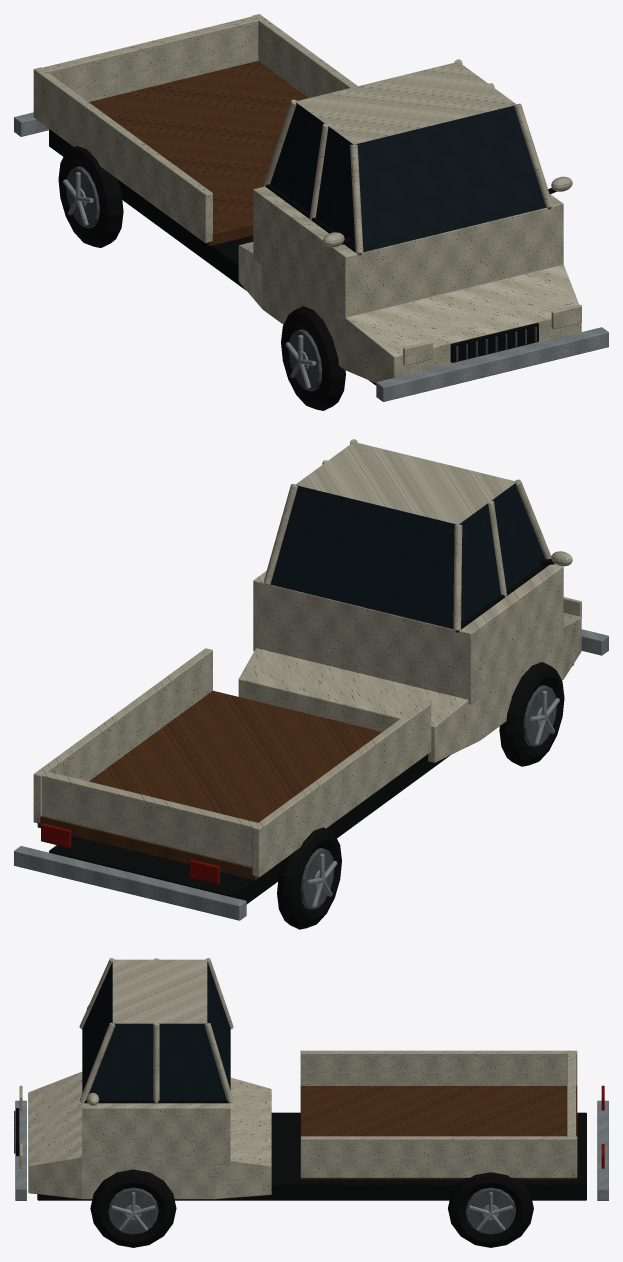
File: PROP-DC867A434090_lod0.glb
3 views of the same model, one above another, from view 1: azimuth 30°, elevation 25°; view 2: azimuth 150°, elevation 25°; view 3: azimuth 270°, elevation 25° (orthographic). The views are drawn at different scales.
Parts seen in each view (by area): view 1: sloped_cabin_glazing.002, lower_cab_shell, bed_deck, shaped_body_panels.004, bed_sides, roof_panel.002, tailgate, tire.004, bumper.004, window_pillars.002, chassis.004, rim.004 (+4 smaller); view 2: sloped_cabin_glazing.002, bed_deck, lower_cab_shell, bed_sides, shaped_body_panels.004, tailgate, roof_panel.002, tire.004, chassis.004, bumper.004, window_pillars.002, rim.004 (+2 smaller); view 3: bed_sides, shaped_body_panels.004, bed_deck, sloped_cabin_glazing.002, lower_cab_shell, chassis.004, tire.004, roof_panel.002, rim.004, window_pillars.002, bumper.004, rim_spokes.004 (+2 smaller).
Boxes of the visible parts, box(x1,y1,x2,y2) form: sloped_cabin_glazing.002: box(270, 102, 546, 252); lower_cab_shell: box(253, 186, 563, 325); bed_deck: box(39, 61, 308, 246); shaped_body_panels.004: box(238, 242, 581, 382); bed_sides: box(33, 14, 357, 242); roof_panel.002: box(295, 61, 516, 144); tailgate: box(41, 16, 258, 101); tire.004: box(58, 146, 345, 410); bumper.004: box(14, 112, 608, 401); window_pillars.002: box(263, 59, 552, 253); chassis.004: box(49, 129, 376, 385); rim.004: box(66, 166, 322, 390); sloped_cabin_glazing.002: box(270, 482, 545, 628); bed_deck: box(37, 690, 426, 880); lower_cab_shell: box(253, 564, 563, 704); bed_sides: box(33, 648, 431, 877); shaped_body_panels.004: box(238, 613, 581, 762); tailgate: box(39, 771, 257, 866); roof_panel.002: box(295, 442, 516, 524); tire.004: box(277, 662, 564, 929); chassis.004: box(49, 664, 573, 904); bumper.004: box(14, 629, 608, 920); window_pillars.002: box(263, 439, 551, 630); rim.004: box(300, 685, 556, 909); bed_sides: box(300, 1050, 577, 1177); shaped_body_panels.004: box(28, 1071, 271, 1199); bed_deck: box(300, 1086, 577, 1179); sloped_cabin_glazing.002: box(82, 961, 230, 1099); lower_cab_shell: box(82, 1103, 230, 1164); chassis.004: box(37, 1112, 586, 1200); tire.004: box(90, 1169, 533, 1247); roof_panel.002: box(112, 959, 207, 1023); rim.004: box(108, 1187, 515, 1234); window_pillars.002: box(79, 958, 233, 1103); bumper.004: box(15, 1100, 608, 1200); rim_spokes.004: box(111, 1192, 512, 1231).
Bounding box in the file's own units: 2.56 × 2.62 × 6.61.
Materials: 8 (8 with a texture image).
